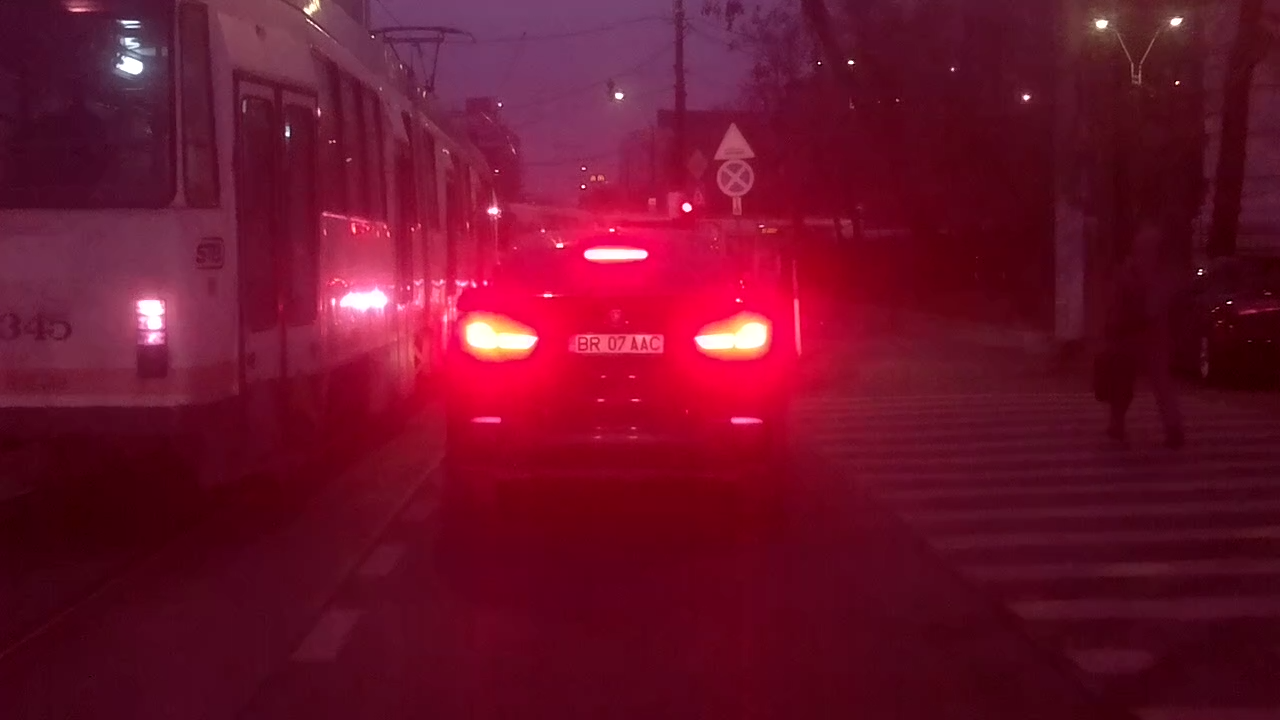license-plate: (563, 330, 667, 357)
